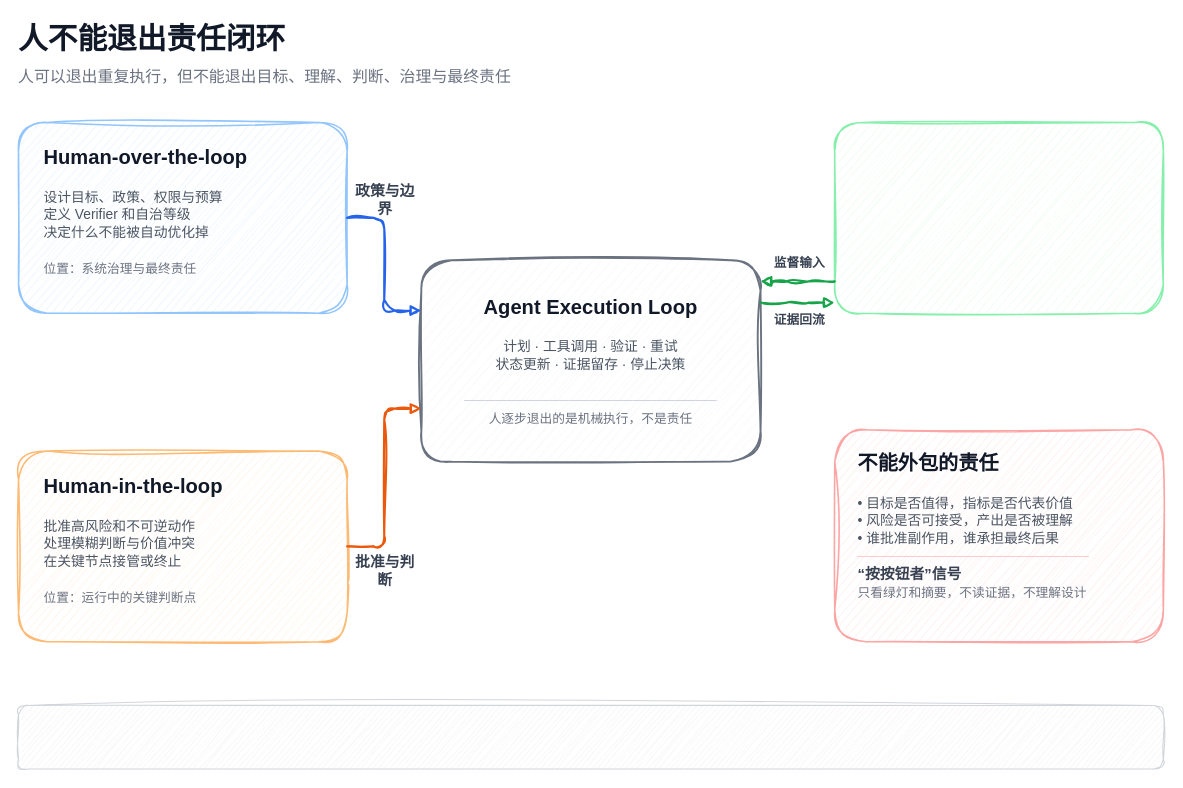
The diagram is 1183 pixels wide and 788 high, and some of its shapes have lost their labels. The shapes that lost their labels are listed below. From the top down, each one's centre as x and y in pixels, then its label:
the point at 998,217: Human-on-the-loop 监控指标、抽样检查与处理异常 发现规则漂移和理解债 确认绿灯仍代表真实目标 位置：持续监督与规则演进
the point at 590,736: 三种关系可以同时存在，也可以按风险组合；它们不是成熟度阶梯。
